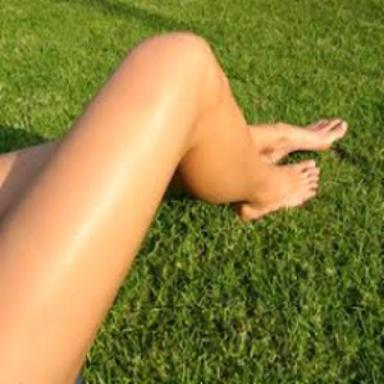normal skin: (0, 32, 347, 384)
